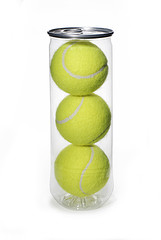tennis ball: (49, 39, 109, 96), (53, 144, 111, 197), (54, 94, 111, 146)
